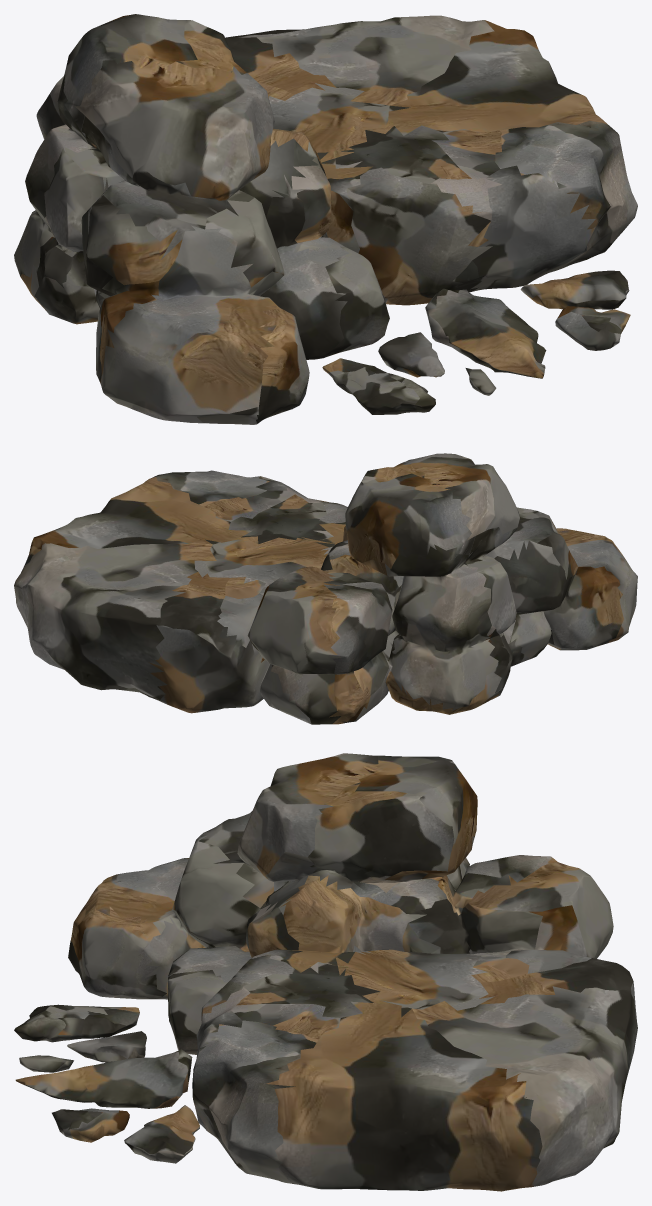
Rendered from Stone (Resource).fbx.
3 renders of one model, top to bottom at view 1: azimuth 30°, elevation 25°; view 2: azimuth 150°, elevation 25°; view 3: azimuth 270°, elevation 25°, orthographic. The views are drawn at different scales.
Parts seen in each view (by area): view 1: tripo_node_96b78287; view 2: tripo_node_96b78287; view 3: tripo_node_96b78287.
Part boxes in pixels (x1,y1,x2,y2): tripo_node_96b78287: [14, 14, 637, 424]; tripo_node_96b78287: [14, 453, 637, 724]; tripo_node_96b78287: [14, 753, 637, 1191].
Bounding box in the file's own units: 1 × 0.3965 × 0.9619.
